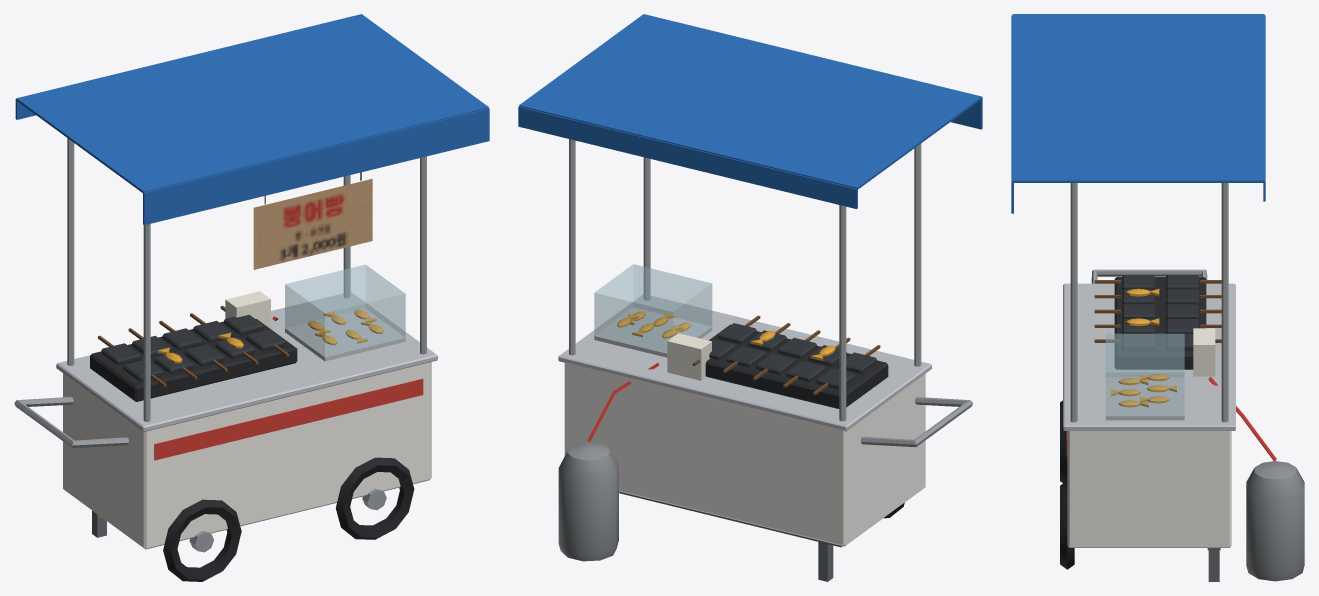
Rendered from SC_Str_Street_Cart_Bungeoppang.gltf.
The picture shows the model from 3 angles, left to right: view 1: azimuth 30°, elevation 25°; view 2: azimuth 150°, elevation 25°; view 3: azimuth 270°, elevation 25°; orthographic projection. The views are drawn at different scales.
Visible parts, largest first — view 1: SC_Str_Street_Cart_Bungeoppang; view 2: SC_Str_Street_Cart_Bungeoppang; view 3: SC_Str_Street_Cart_Bungeoppang.
Boxes of the visible parts, bbox=[...] form: SC_Str_Street_Cart_Bungeoppang: bbox=[14, 14, 489, 581]; SC_Str_Street_Cart_Bungeoppang: bbox=[518, 14, 982, 581]; SC_Str_Street_Cart_Bungeoppang: bbox=[1011, 14, 1304, 581].
Size of the model in its own units: 1.96 by 2.15 by 1.34.
Materials: 4 (4 with a texture image).
